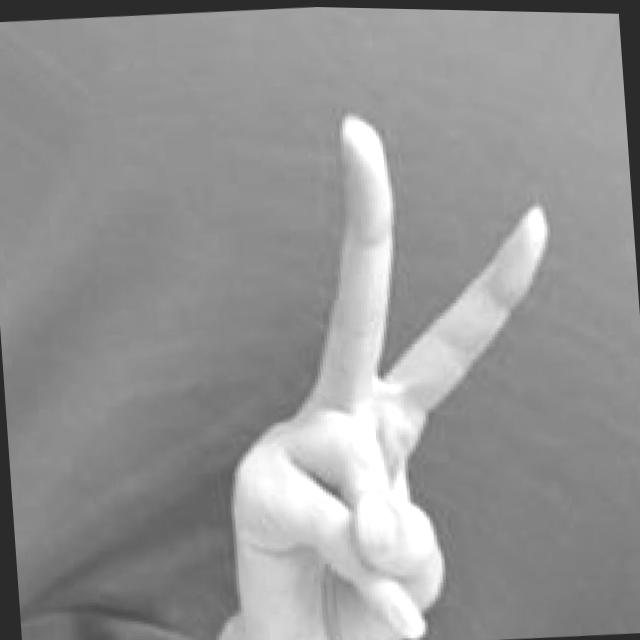V: (200, 89, 578, 640)
